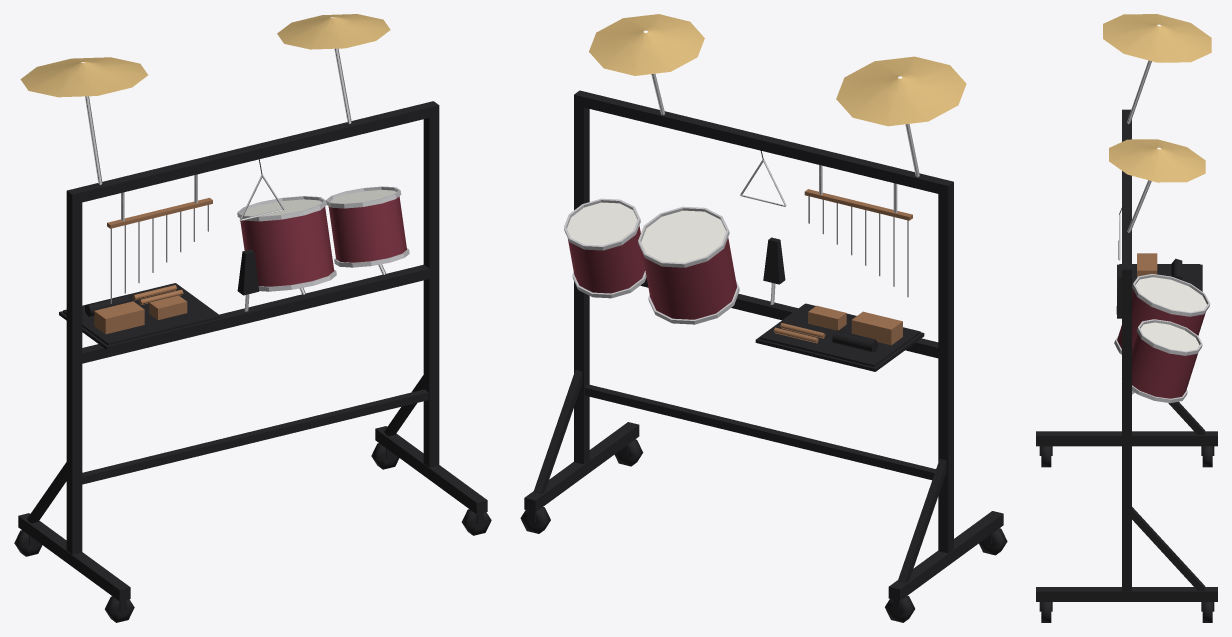
File: aux-rack-mixed-low.glb
3 renders of one model, left to right at view 1: azimuth 30°, elevation 25°; view 2: azimuth 150°, elevation 25°; view 3: azimuth 270°, elevation 25°, orthographic. The views are drawn at different scales.
Visible parts, largest first — view 1: frame, shell, cymbal, metal, wood, head; view 2: frame, cymbal, shell, head, metal, wood; view 3: frame, cymbal, shell, head, metal, wood.
Boxes of the visible parts, x1,y1,x2,y2 form: frame: (14, 101, 491, 622); shell: (240, 196, 406, 286); cymbal: (20, 14, 390, 97); metal: (85, 48, 409, 311); wood: (94, 197, 212, 334); head: (242, 189, 396, 216); frame: (520, 90, 1007, 622); cymbal: (589, 14, 966, 126); shell: (567, 226, 736, 319); head: (567, 202, 726, 262); metal: (564, 73, 919, 324); wood: (773, 189, 912, 345); frame: (1036, 109, 1217, 622); cymbal: (1103, 14, 1211, 182); shell: (1117, 289, 1205, 398); head: (1135, 277, 1206, 351); metal: (1114, 60, 1210, 403); wood: (1137, 253, 1157, 277).
Size of the model in its own units: 1.63 by 1.97 by 0.72.
